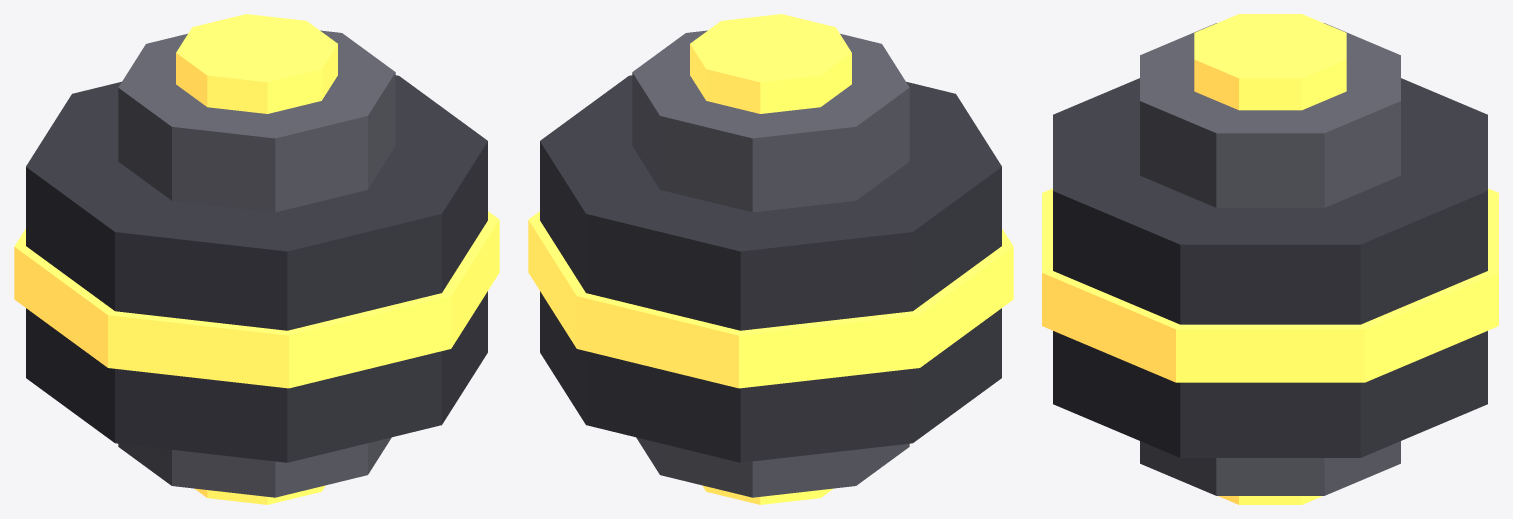
The model's file is grenade.glb.
The picture shows the model from 3 angles, left to right: view 1: azimuth 30°, elevation 25°; view 2: azimuth 150°, elevation 25°; view 3: azimuth 270°, elevation 25°; orthographic projection.
Parts seen in each view (by area): view 1: grenade; view 2: grenade; view 3: grenade.
Boxes of the visible parts, x1,y1,x2,y2 form: grenade: (14,14,499,504); grenade: (528,14,1013,504); grenade: (1042,14,1498,504).
Bounding box in the file's own units: 1.94 × 2 × 1.94.
